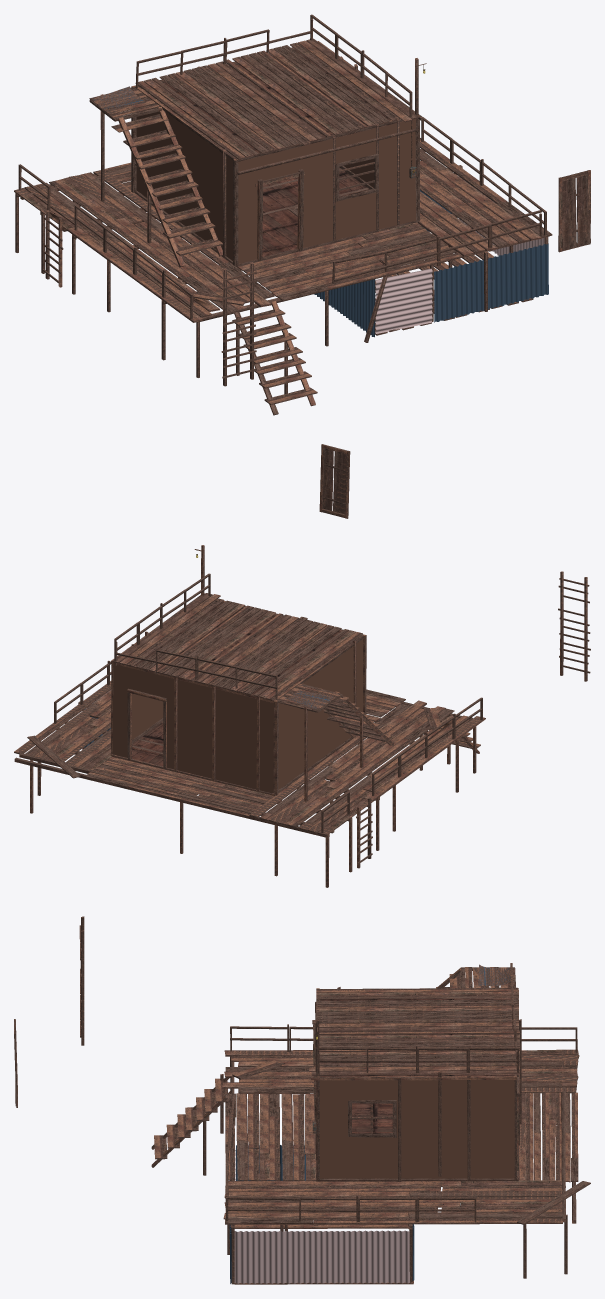
File: swamphouse 2.fbx
3 views of the same model, one above another, from view 1: azimuth 30°, elevation 25°; view 2: azimuth 150°, elevation 25°; view 3: azimuth 270°, elevation 25° (orthographic). The views are drawn at different scales.
Visible parts, largest first — view 1: Group1, Group2, Group3; view 2: Group1, Group2, Group3; view 3: Group1, Group3.
Part boxes in pixels (left/top/right/bottom): Group1: left=14, top=14, right=552, bottom=415; Group2: left=558, top=170, right=590, bottom=252; Group3: left=221, top=262, right=257, bottom=386; Group1: left=14, top=545, right=485, bottom=887; Group2: left=319, top=444, right=350, bottom=518; Group3: left=558, top=571, right=590, bottom=681; Group1: left=151, top=963, right=590, bottom=1284; Group3: left=79, top=916, right=84, bottom=1045.
Bounding box in the file's own units: 481 × 280 × 598.
